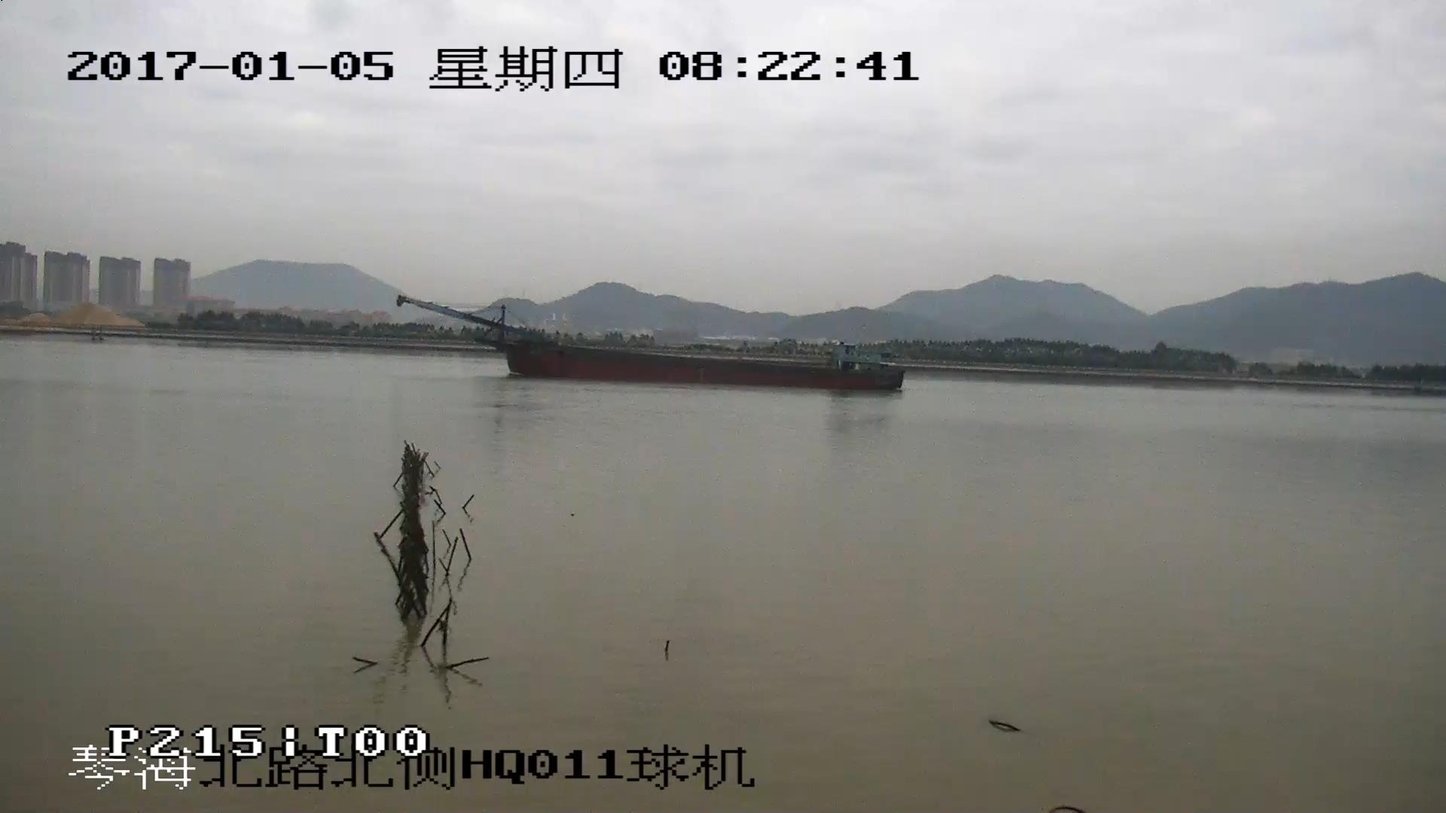bulk cargo carrier: (399, 294, 898, 390)
